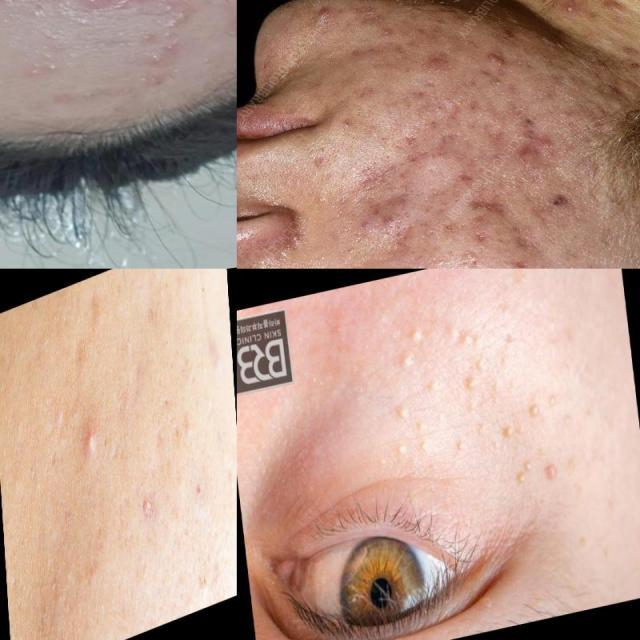Pimples: (526, 381, 578, 448), (457, 171, 518, 226), (472, 35, 528, 87), (446, 313, 490, 357), (389, 419, 432, 462), (74, 0, 168, 18), (532, 0, 594, 27), (500, 218, 542, 256), (393, 327, 425, 374), (310, 0, 351, 35), (460, 352, 490, 394), (510, 458, 540, 496), (488, 422, 519, 457), (299, 240, 334, 269), (422, 49, 448, 83), (82, 419, 98, 462), (369, 210, 399, 232), (391, 400, 412, 424), (422, 375, 441, 397), (68, 396, 81, 426), (196, 273, 208, 305), (454, 437, 468, 457)
